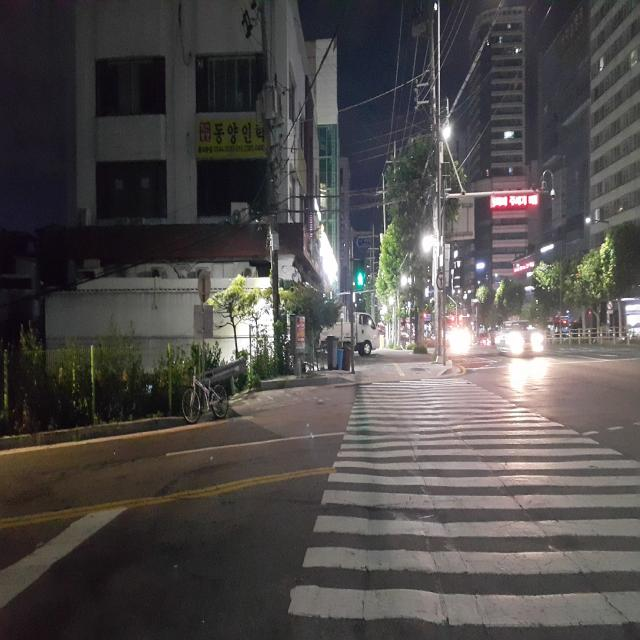초록불: (356, 257, 366, 289)
횡단보도: (284, 373, 640, 632)
